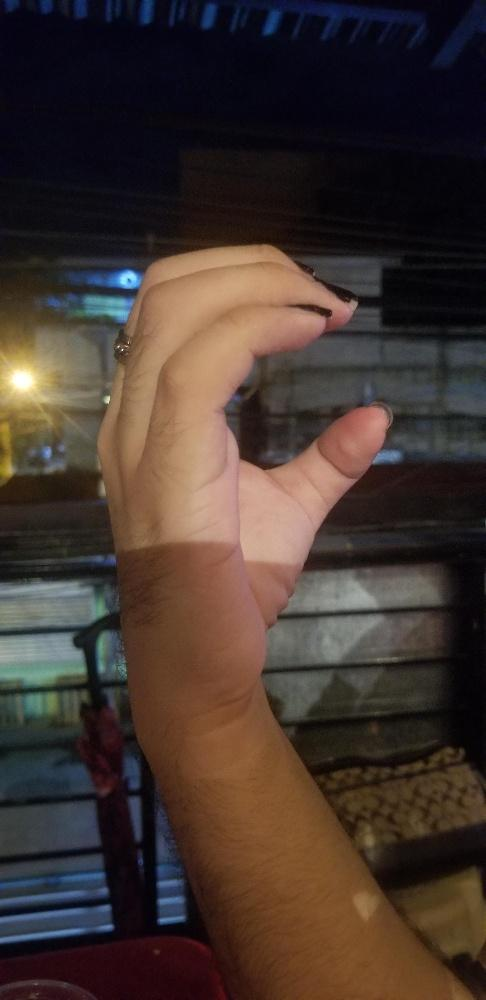c: (96, 236, 391, 696)
